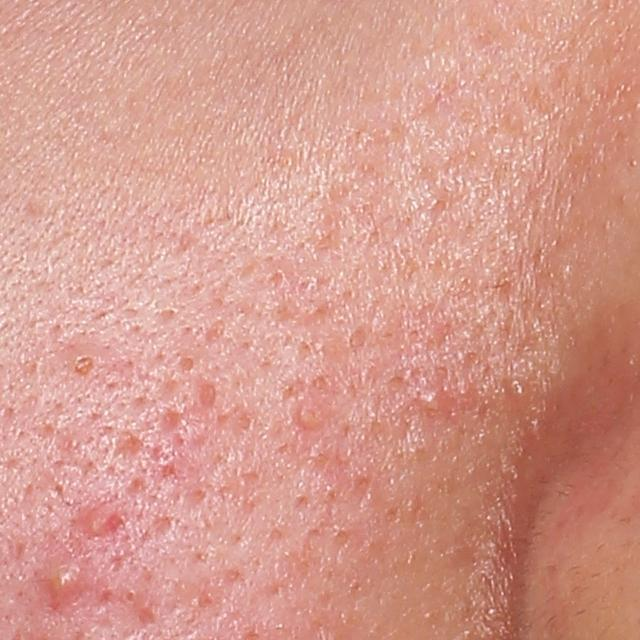comedo: (68, 352, 97, 382), (121, 589, 139, 606)
papule: (38, 557, 92, 603), (79, 502, 123, 534), (294, 400, 328, 432), (420, 381, 448, 413)
